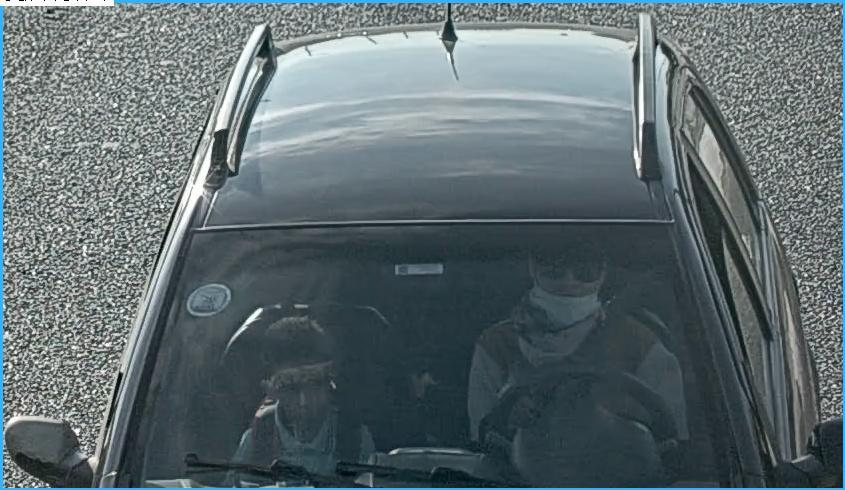windshield: (108, 210, 767, 489)
